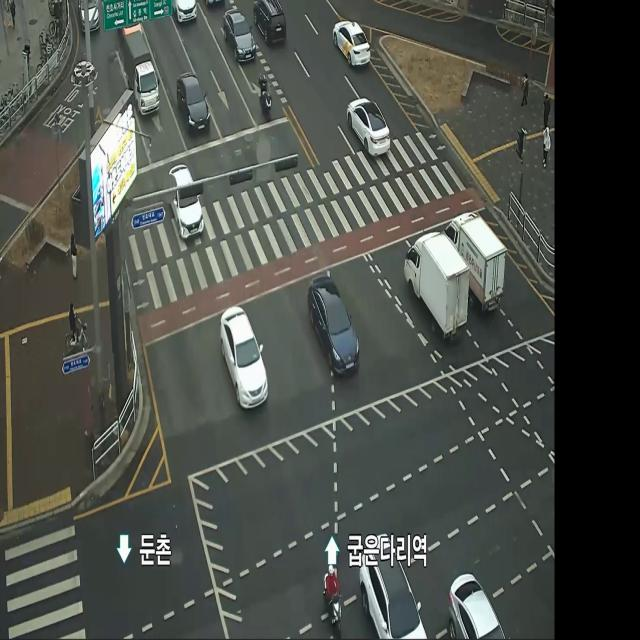bus: (321, 559, 343, 640), (256, 66, 274, 121)
motorcycle: (309, 272, 360, 382), (219, 307, 269, 414), (347, 96, 394, 164), (170, 163, 206, 240), (176, 69, 212, 142), (332, 18, 371, 70), (222, 4, 255, 65)
truck: (403, 231, 469, 342), (447, 209, 507, 315), (120, 23, 161, 121)
